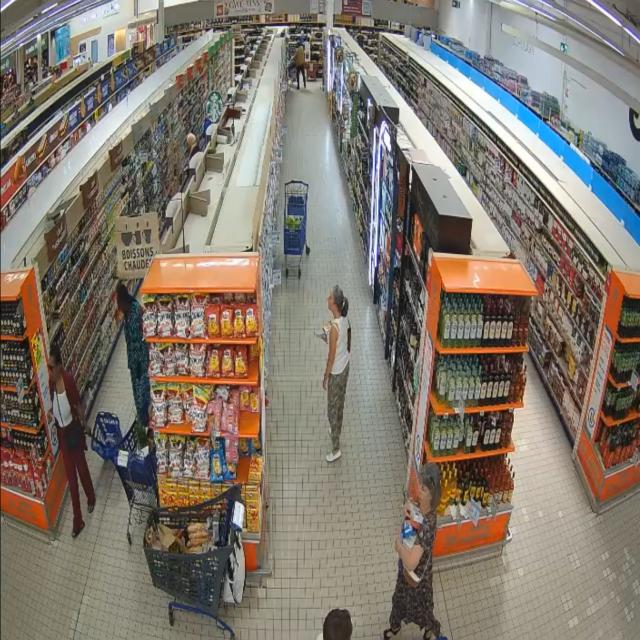article: (405, 507, 421, 529), (410, 501, 423, 523), (322, 320, 332, 344), (400, 527, 418, 539), (401, 519, 412, 534), (315, 331, 324, 337)
bags: (223, 533, 246, 604), (403, 559, 430, 588), (63, 417, 86, 451), (348, 321, 351, 353)
hands: (394, 530, 402, 553), (405, 502, 411, 519), (323, 375, 328, 390)
person: (384, 463, 440, 639), (49, 345, 95, 537), (117, 283, 150, 426), (324, 286, 350, 462)
